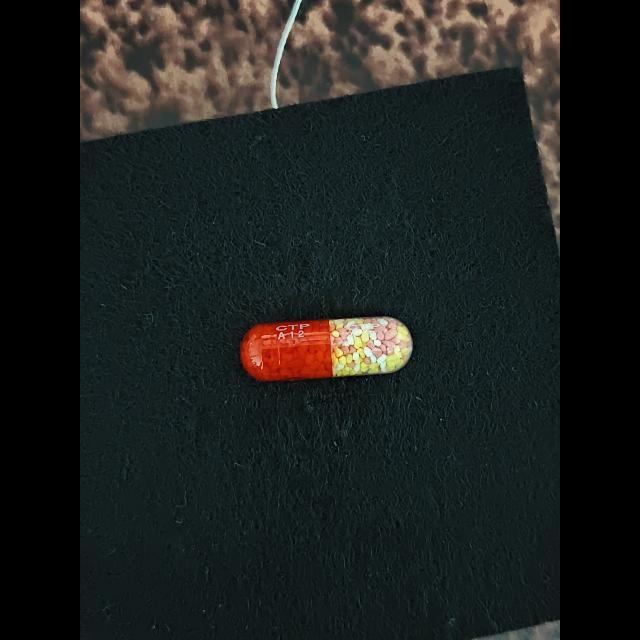Intact Capsule: (240, 317, 413, 381)
